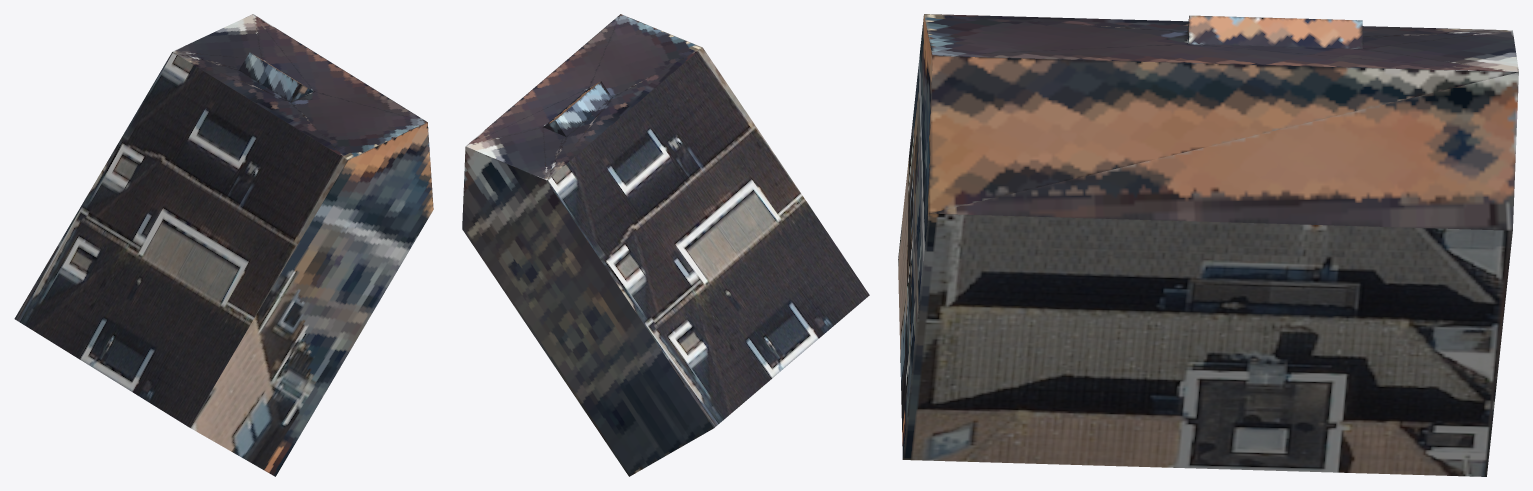
3 views of the same model, side by side, from view 1: azimuth 30°, elevation 25°; view 2: azimuth 150°, elevation 25°; view 3: azimuth 270°, elevation 25° (orthographic). The views are drawn at different scales.
Visible parts, largest first — view 1: BAG_0599100000688735 (×4); view 2: BAG_0599100000688735 (×4); view 3: BAG_0599100000688735 (×4).
Boxes of the visible parts, bbox=[...] form: BAG_0599100000688735 (×4): bbox=[14, 14, 433, 476]; BAG_0599100000688735 (×4): bbox=[462, 14, 869, 476]; BAG_0599100000688735 (×4): bbox=[898, 14, 1518, 476].
Size of the model in its own units: 10.79 by 12.79 by 12.76.
4 materials, 4 textured.
